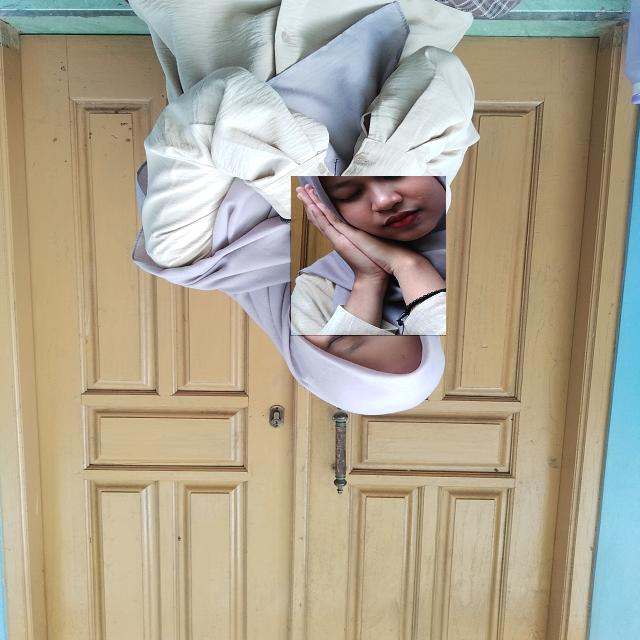tidur: (290, 176, 446, 336)
